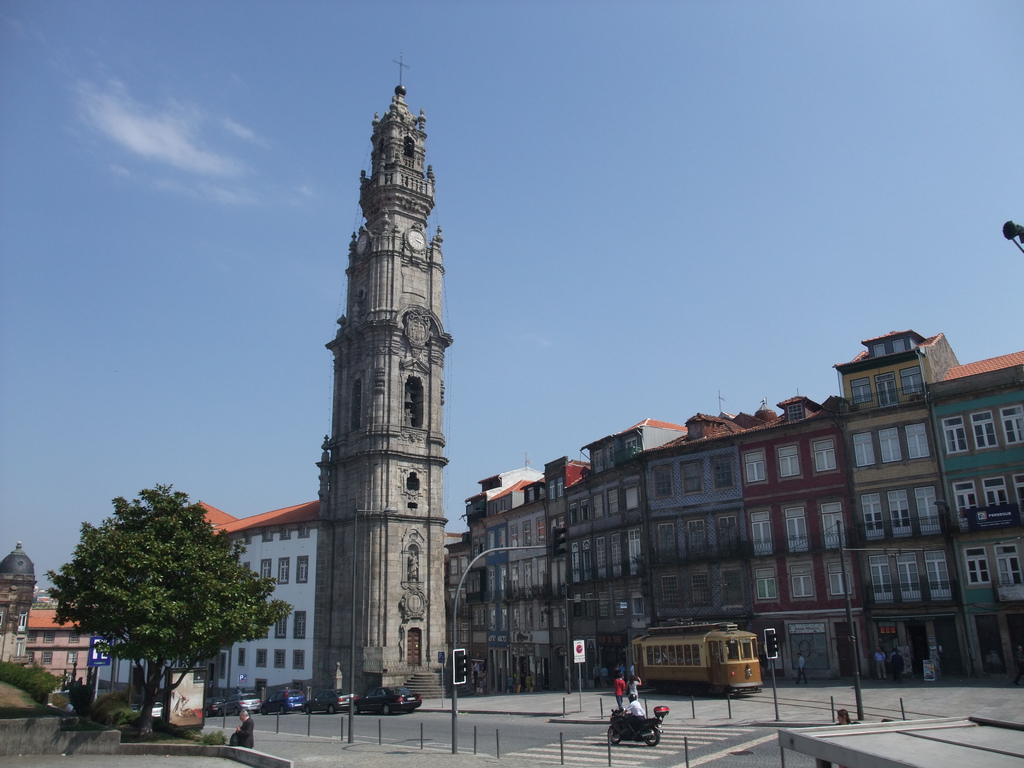clerigos: (315, 51, 455, 665)
